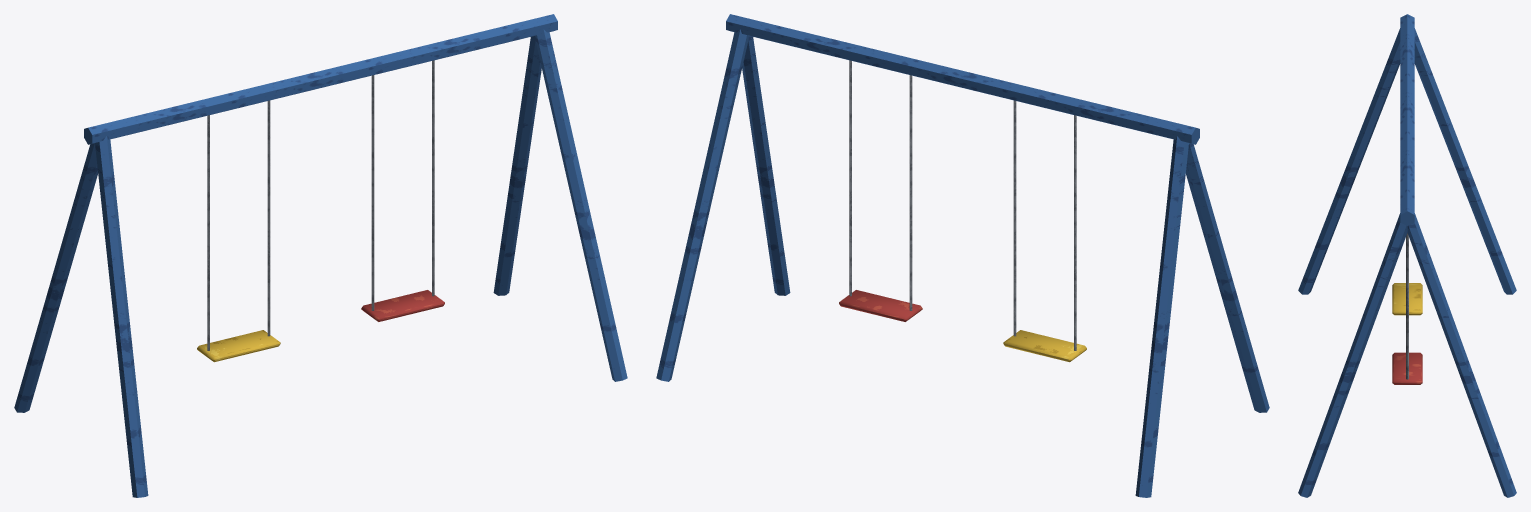
File: swing_set.glb
3 renders of one model, left to right at view 1: azimuth 30°, elevation 25°; view 2: azimuth 150°, elevation 25°; view 3: azimuth 270°, elevation 25°, orthographic. The views are drawn at different scales.
Visible parts, largest first — view 1: Prop; view 2: Prop; view 3: Prop.
Part boxes in pixels (left/top/right/bottom): Prop: left=14, top=14, right=627, bottom=497; Prop: left=656, top=14, right=1269, bottom=497; Prop: left=1298, top=14, right=1516, bottom=497.
Size of the model in its own units: 3.59 by 2.26 by 1.59.
Materials: 2 (2 with a texture image).
